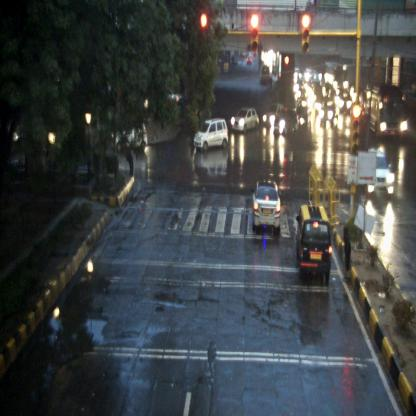bus: (363, 84, 410, 146), (325, 60, 348, 90)
car: (295, 204, 332, 288), (250, 181, 282, 236), (192, 118, 228, 152), (231, 108, 261, 133)
